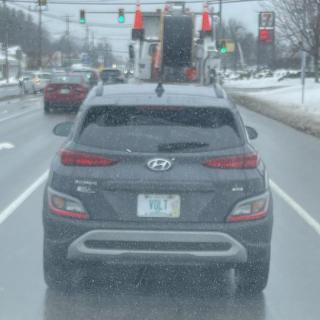license: (136, 195, 182, 219)
